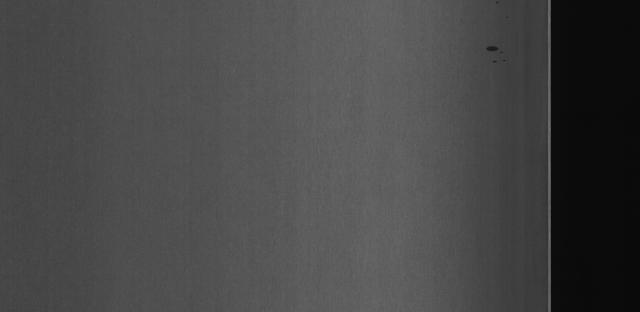oil_spot: (476, 39, 507, 64)
